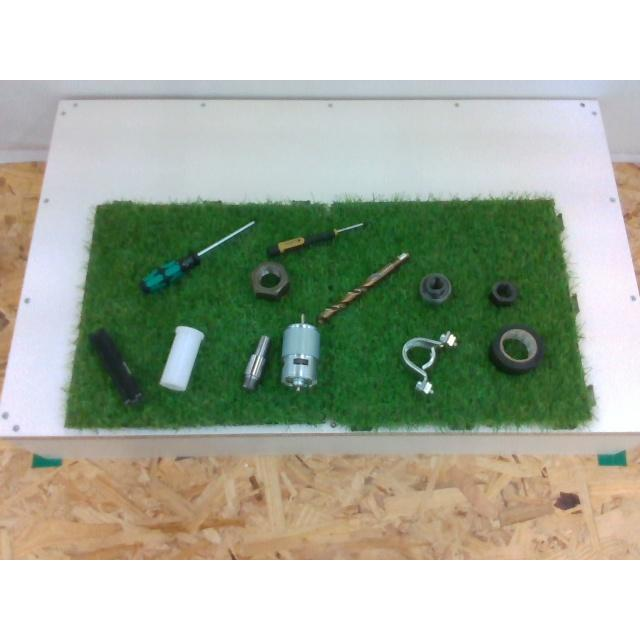Axis2: (242, 335, 270, 389)
Bearing2: (419, 274, 451, 302)
Drill: (320, 252, 408, 320)
F20_20_B: (90, 328, 142, 404)
Housing: (400, 333, 456, 393)
M20: (489, 280, 518, 304)
M30: (251, 263, 287, 299)
Motor2: (280, 312, 318, 390)
Screwdriver: (140, 219, 254, 291)
Spacer: (159, 326, 203, 390)
